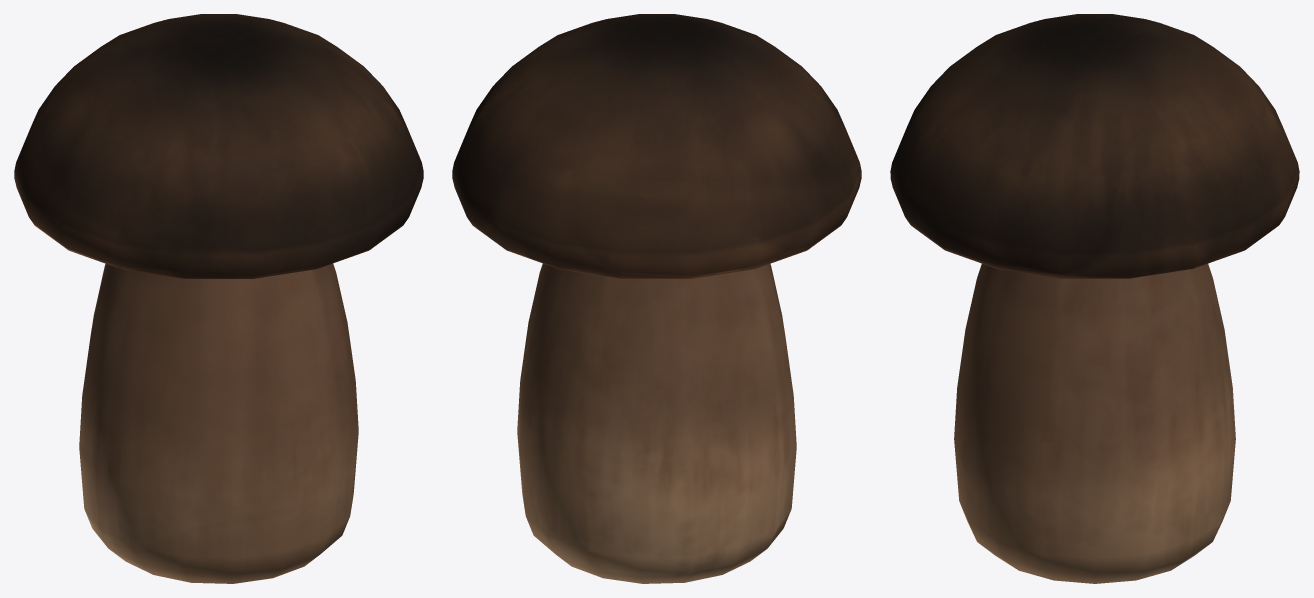
The model's file is Schroom_Tank.fbx.
3 views of the same model, side by side, from view 1: azimuth 30°, elevation 25°; view 2: azimuth 150°, elevation 25°; view 3: azimuth 270°, elevation 25° (orthographic).
Parts seen in each view (by area): view 1: Warrior.004; view 2: Warrior.004; view 3: Warrior.004.
Part boxes in pixels (x1=…): Warrior.004: x1=14, y1=14, x2=423, y2=583; Warrior.004: x1=452, y1=14, x2=861, y2=583; Warrior.004: x1=890, y1=14, x2=1299, y2=583.
Size of the model in its own units: 200 by 285 by 203.
